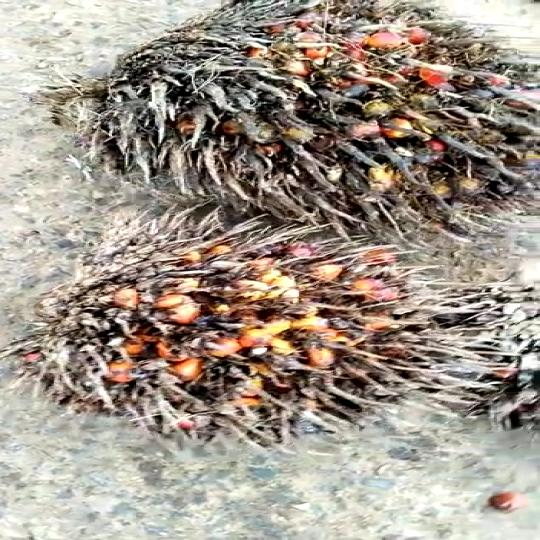terlalu masak: (42, 0, 540, 234), (0, 221, 465, 434)
